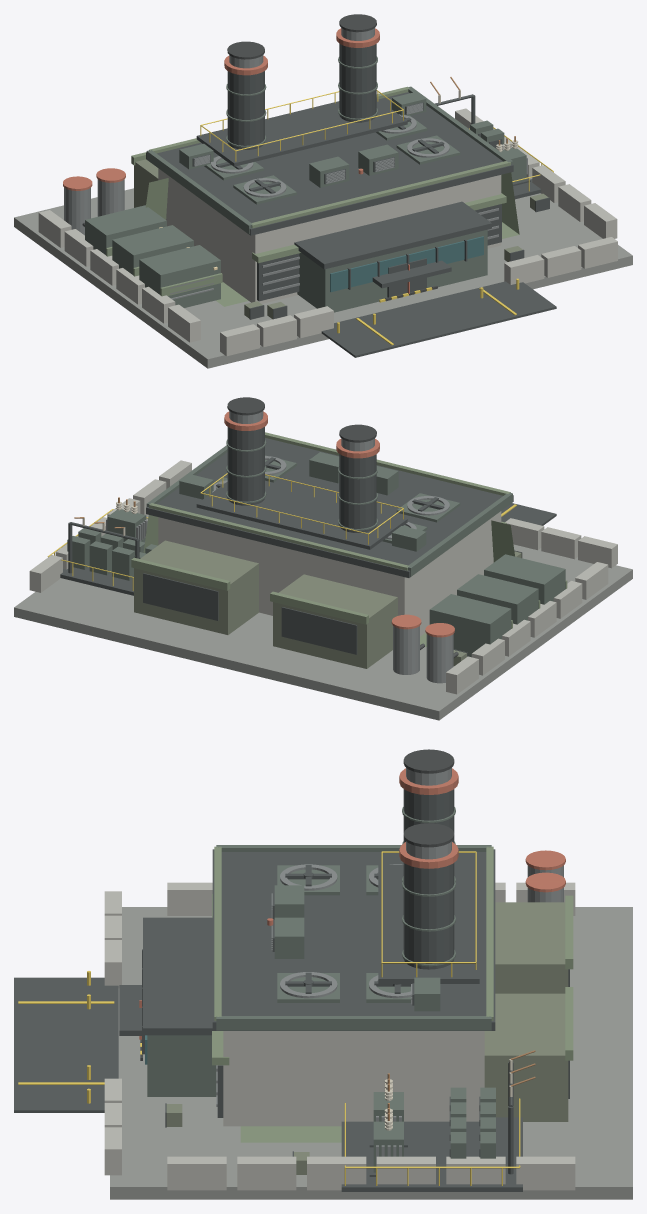
Rendered from aegis_grid_bastion_power_plant_v1.glb.
3 renders of one model, top to bottom at view 1: azimuth 30°, elevation 25°; view 2: azimuth 150°, elevation 25°; view 3: azimuth 270°, elevation 25°, orthographic. The views are drawn at different scales.
Visible parts, largest first — view 1: Static_steel_dark, Static_concrete, Static_team_secondary, Static_concrete_dark, Static_team_primary, Static_steel, Static_glass, Static_yellow, Static_team_accent, Static_olive, Static_black; view 2: Static_steel_dark, Static_concrete_dark, Static_concrete, Static_team_secondary, Static_olive, Static_team_primary, Static_steel, Static_team_accent, Static_yellow, Static_black; view 3: Static_steel_dark, Static_concrete, Static_concrete_dark, Static_team_secondary, Static_olive, Static_team_primary, Static_steel, Static_team_accent, Static_yellow, Static_black.
Boxes of the visible parts, x1,y1,x2,y2 form: Static_steel_dark: [146, 43, 556, 357]; Static_concrete: [38, 108, 617, 356]; Static_team_secondary: [85, 56, 526, 312]; Static_concrete_dark: [14, 188, 632, 368]; Static_team_primary: [106, 86, 519, 306]; Static_steel: [64, 28, 527, 299]; Static_glass: [330, 236, 483, 292]; Static_yellow: [200, 90, 553, 345]; Static_team_accent: [63, 28, 409, 293]; Static_olive: [134, 159, 548, 319]; Static_black: [227, 14, 437, 301]; Static_steel_dark: [60, 427, 556, 656]; Static_concrete_dark: [14, 514, 632, 720]; Static_concrete: [29, 460, 617, 694]; Static_team_secondary: [67, 439, 565, 657]; Static_olive: [134, 540, 521, 668]; Static_team_primary: [131, 432, 567, 646]; Static_steel: [106, 411, 453, 683]; Static_team_accent: [224, 411, 454, 637]; Static_yellow: [47, 473, 516, 590]; Static_black: [227, 397, 376, 442]; Static_steel_dark: [14, 789, 569, 1191]; Static_concrete: [104, 882, 575, 1190]; Static_concrete_dark: [110, 907, 632, 1199]; Static_team_secondary: [147, 807, 495, 1172]; Static_olive: [166, 902, 568, 1174]; Static_team_primary: [212, 846, 573, 1142]; Static_steel: [216, 767, 563, 1166]; Static_team_accent: [139, 768, 565, 1039]; Static_yellow: [18, 851, 520, 1185]; Static_black: [140, 749, 454, 1060].
Bounding box in the file's own units: 38.9 × 16.61 × 35.5.
